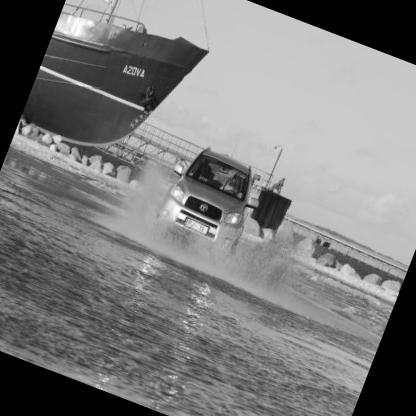car: (141, 128, 286, 271)
